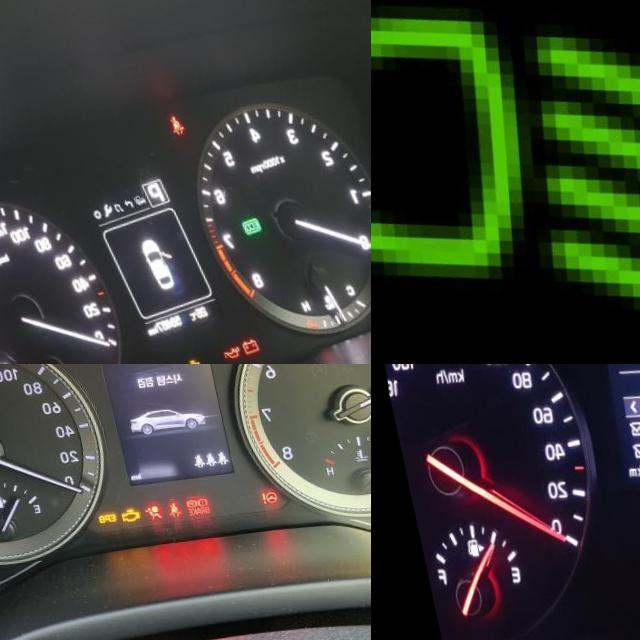Low beam: (371, 0, 640, 357)
